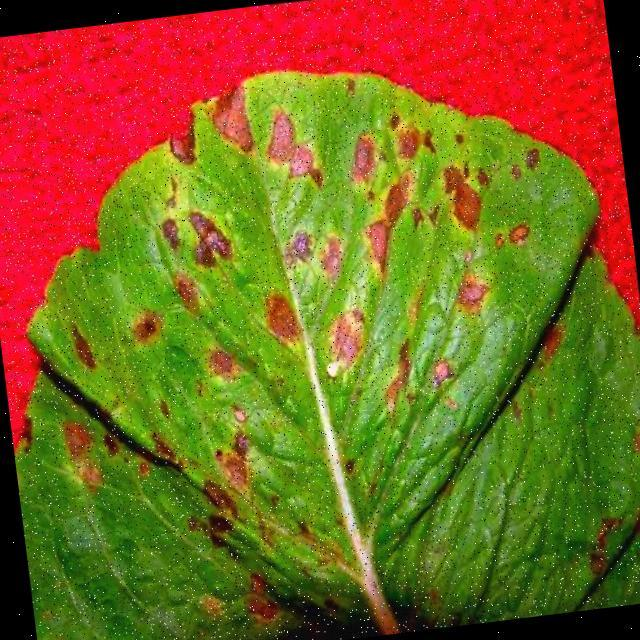Septoria_Blight_on_lettuce: (111, 185, 412, 547)
